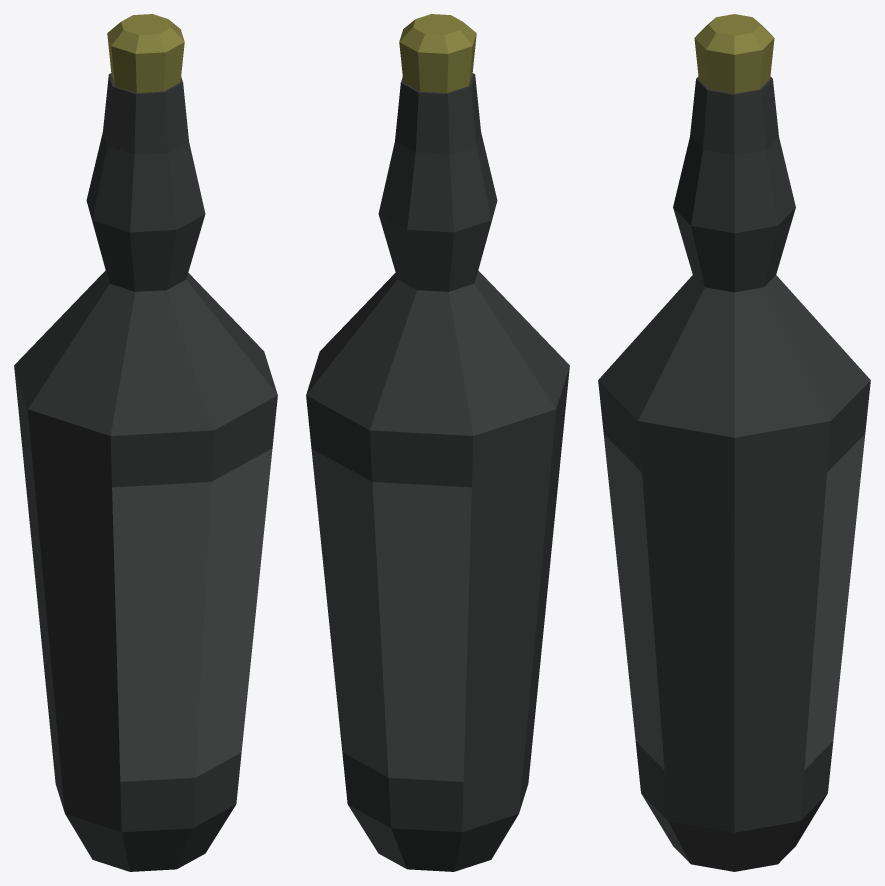
Rendered from Bottle_2_Black.fbx.
3 views of the same model, side by side, from view 1: azimuth 30°, elevation 25°; view 2: azimuth 150°, elevation 25°; view 3: azimuth 270°, elevation 25° (orthographic).
Parts seen in each view (by area): view 1: Bottle_2_Black_Part_1, Bottle_2_Black_Part_2, Bottle_2_Black_Part_3; view 2: Bottle_2_Black_Part_1, Bottle_2_Black_Part_2, Bottle_2_Black_Part_3; view 3: Bottle_2_Black_Part_1, Bottle_2_Black_Part_2, Bottle_2_Black_Part_3.
Boxes of the visible parts, box(x1,y1,x2,y2) form: Bottle_2_Black_Part_1: box(14, 73, 277, 871); Bottle_2_Black_Part_2: box(112, 448, 272, 781); Bottle_2_Black_Part_3: box(107, 14, 184, 92); Bottle_2_Black_Part_1: box(306, 73, 569, 871); Bottle_2_Black_Part_2: box(311, 448, 471, 781); Bottle_2_Black_Part_3: box(399, 14, 476, 92); Bottle_2_Black_Part_1: box(598, 76, 870, 871); Bottle_2_Black_Part_2: box(603, 434, 865, 769); Bottle_2_Black_Part_3: box(694, 14, 774, 93).
Size of the model in its own units: 12 by 39.85 by 12.
